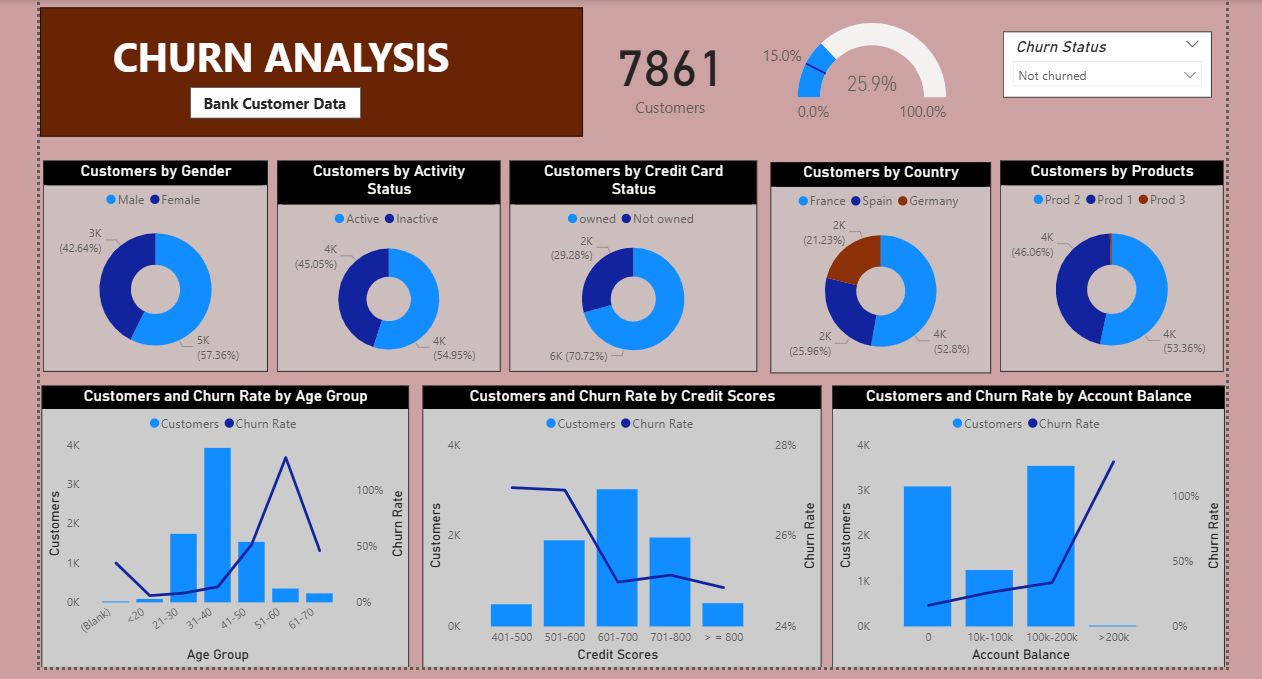

The page's visual inventory and layout, read from the dashboard file:
{"tool":"powerbi","page":{"name":"Page 1","canvas":[1280,720],"ordinal":0},"visuals":[{"type":"card","fields":{"Values":["Customer Data.Coustomers"]},"box":[586.2,6.5,187.8,140.9],"z":0},{"type":"donutChart","fields":{"Category":["Customer Data.Gender"],"Y":["Customer Data.Coustomers"]},"box":[3.2,173.3,242.9,228.3],"z":1000},{"type":"donutChart","fields":{"Category":["Customer Data.Activity Status"],"Y":["Customer Data.Coustomers"]},"box":[255.8,173.3,241.3,228.3],"z":2000},{"type":"donutChart","fields":{"Category":["Customer Data.Credit Card Status"],"Y":["Customer Data.Coustomers"]},"box":[506.8,173.3,267.2,228.3],"z":3000},{"type":"donutChart","fields":{"Y":["Customer Data.Coustomers"],"Category":["Customer Data.Country"]},"box":[788.6,174.9,238,228.3],"z":4000},{"type":"donutChart","fields":{"Y":["Customer Data.Coustomers"],"Category":["Customer Data.Products"]},"box":[1036.3,173.3,241.3,228.3],"z":5000},{"type":"lineClusteredColumnComboChart","fields":{"Category":["Age groups.Age Group"],"Y":["Customer Data.Coustomers"],"Y2":["Customer Data.Churn Rate"]},"box":[1.6,415.6,396.7,304.4],"z":6000},{"type":"lineClusteredColumnComboChart","fields":{"Y":["Customer Data.Coustomers"],"Y2":["Customer Data.Churn Rate"],"Category":["Credit score groups.Credit Scores"]},"box":[412.9,416.1,430.7,304.4],"z":7000},{"type":"lineClusteredColumnComboChart","fields":{"Y":["Customer Data.Coustomers"],"Y2":["Customer Data.Churn Rate"],"Category":["Accounts balance groups.Account Balance"]},"box":[855,415.6,424.2,304.4],"z":8000},{"type":"slicer","fields":{"Values":["Customer Data.Churn Status"]},"box":[1039.5,34,225.1,71.2],"z":9000},{"type":"gauge","fields":{"Y":["Customer Data.Churn Rate"],"MinValue":["Min(Customer Data.Min Churn Rate)"],"MaxValue":["Max(Customer Data.Max Churn Rate)"],"TargetValue":["Max(Customer Data.Target Churn Rate)"]},"box":[754.6,19.4,244.5,121.4],"z":10000},{"type":"textbox","box":[0,8.1,586.2,139.3],"z":11000},{"type":"textbox","box":[161.9,93.9,184.6,34],"z":13000}]}

Visuals, with their boxes in screenshot pixels (x1, y1, x2, y2):
card - Customer Data.Coustomers: 579 26 754 157
donutChart - Customer Data.Gender x Customer Data.Coustomers: 36 181 262 394
donutChart - Customer Data.Activity Status x Customer Data.Coustomers: 271 181 496 394
donutChart - Customer Data.Credit Card Status x Customer Data.Coustomers: 505 181 754 394
donutChart - Customer Data.Coustomers x Customer Data.Country: 768 183 989 395
donutChart - Customer Data.Coustomers x Customer Data.Products: 998 181 1223 394
lineClusteredColumnComboChart - Age groups.Age Group x Customer Data.Coustomers: 34 407 404 678
lineClusteredColumnComboChart - Customer Data.Coustomers x Customer Data.Churn Rate: 418 407 819 678
lineClusteredColumnComboChart - Customer Data.Coustomers x Customer Data.Churn Rate: 830 407 1225 678
slicer - Customer Data.Churn Status: 1001 51 1211 118
gauge - Customer Data.Churn Rate x Min(Customer Data.Min Churn Rate): 736 38 964 151
textbox: 33 27 579 157
textbox: 184 107 356 139
